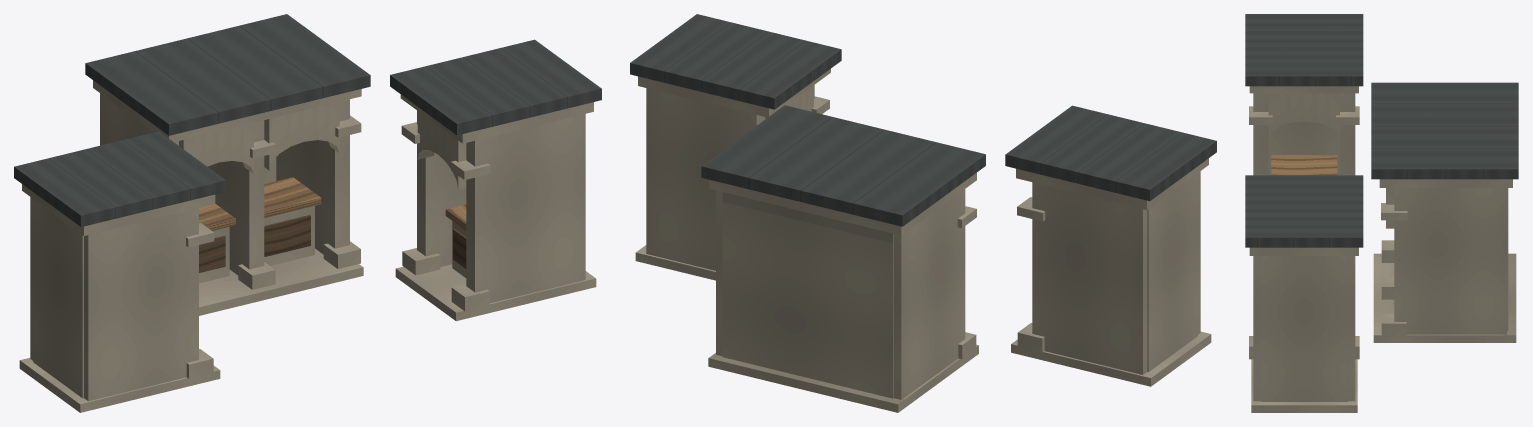
3 renders of one model, left to right at view 1: azimuth 30°, elevation 25°; view 2: azimuth 150°, elevation 25°; view 3: azimuth 270°, elevation 25°, orthographic. The views are drawn at different scales.
Parts seen in each view (by area): view 1: gombe; view 2: gombe; view 3: gombe.
Boxes of the visible parts, <box> form: gombe: <box>14,14,601,412</box>; gombe: <box>630,14,1216,412</box>; gombe: <box>1245,14,1518,412</box>.
Bounding box in the file's own units: 6 × 2.2 × 3.1.
Materials: 1 (1 with a texture image).
